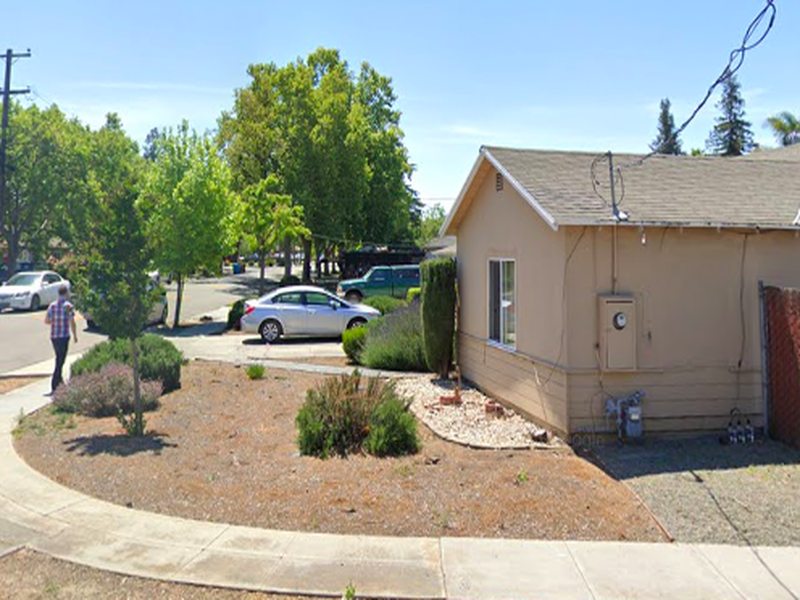tree: (212, 44, 400, 282), (134, 134, 241, 330), (71, 181, 158, 363)
